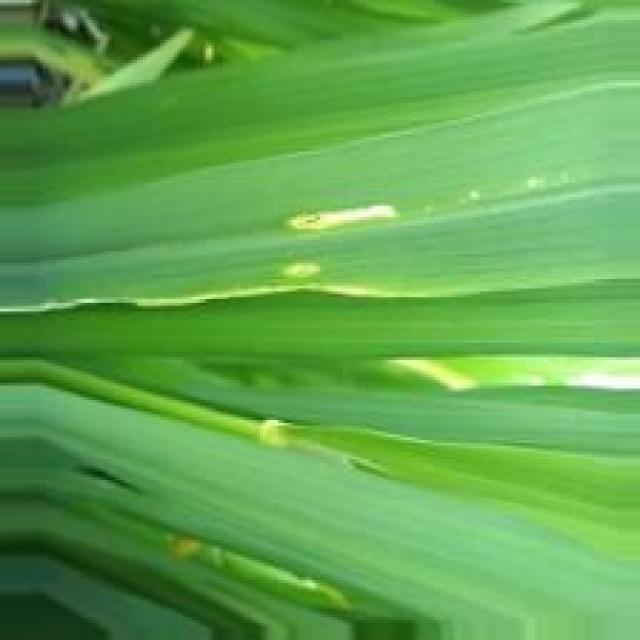Rice_Hispa: (0, 286, 457, 315), (288, 198, 407, 228)
